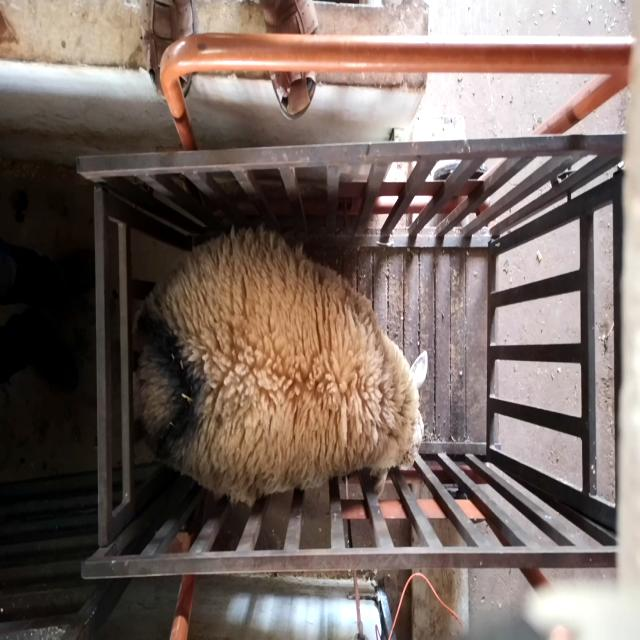sheep: (133, 227, 428, 507)
